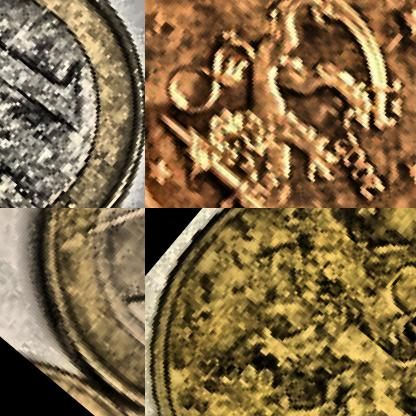coin: (145, 0, 415, 207), (145, 208, 415, 415), (0, 0, 144, 207), (0, 208, 144, 415)
